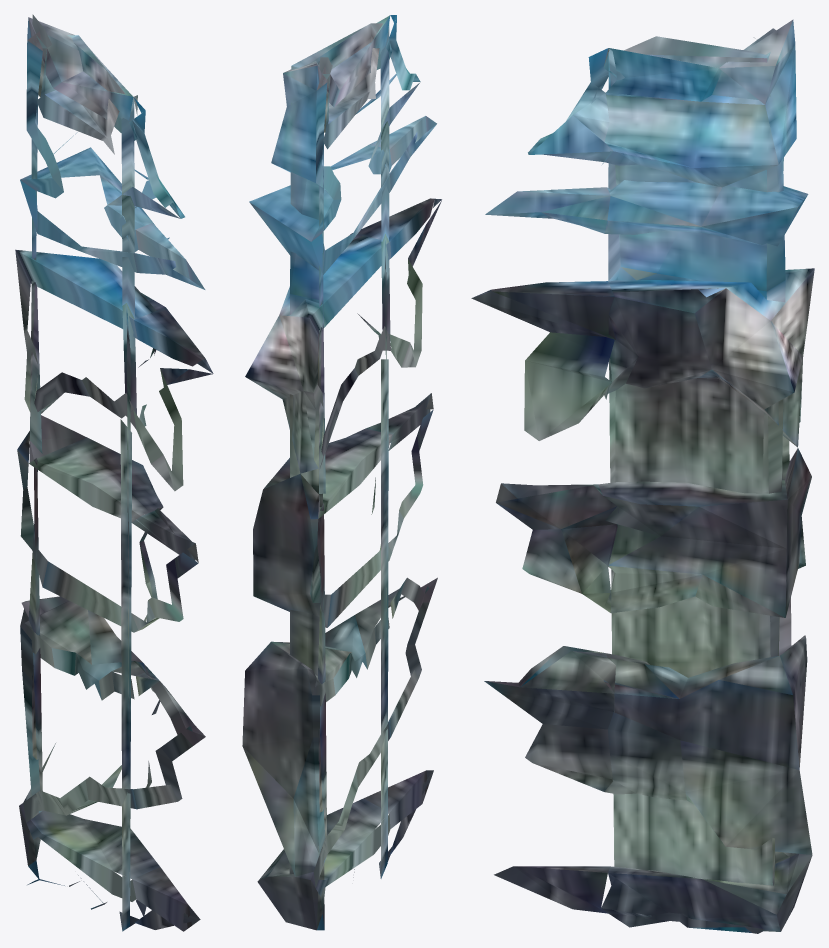
The picture shows the model from 3 angles, left to right: view 1: azimuth 30°, elevation 25°; view 2: azimuth 150°, elevation 25°; view 3: azimuth 270°, elevation 25°; orthographic projection. The views are drawn at different scales.
Visible parts, largest first — view 1: Mesh_0; view 2: Mesh_0; view 3: Mesh_0.
Part boxes in pixels (x1,y1,x2,y2): Mesh_0: [15, 14, 213, 931]; Mesh_0: [242, 15, 441, 930]; Mesh_0: [471, 19, 814, 933].
Bounding box in the file's own units: 2.65 × 25.6 × 8.78.
1 material, 1 textured.
